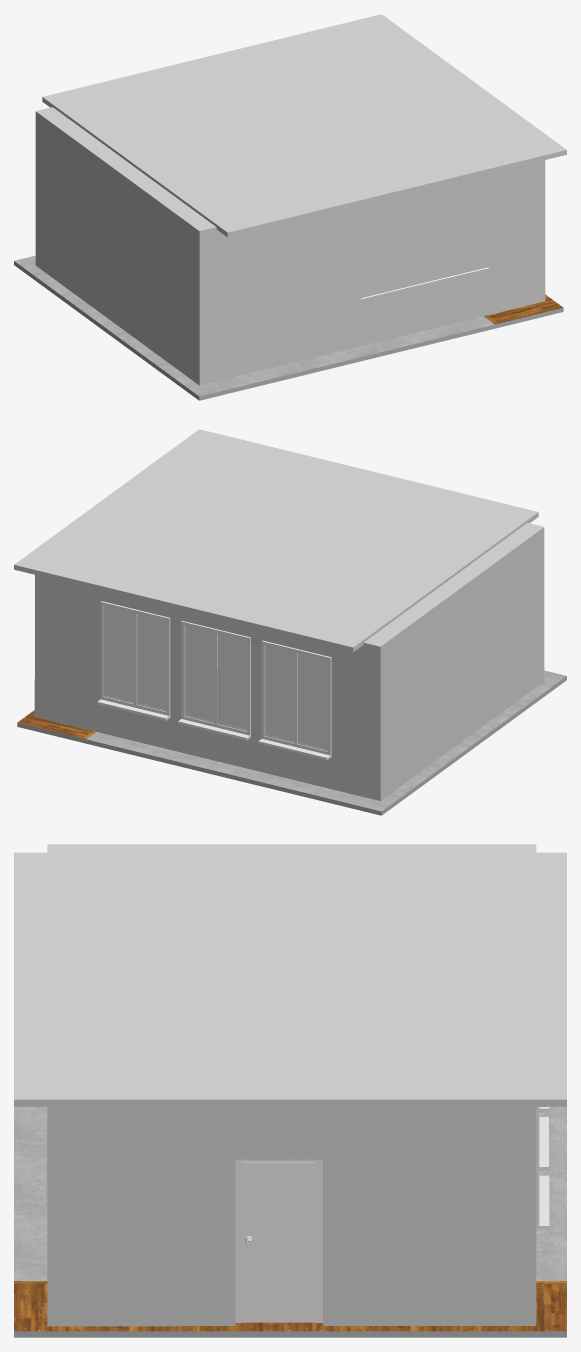
File: FloorPlan220_physics.fbx
The picture shows the model from 3 angles, top to bottom: view 1: azimuth 30°, elevation 25°; view 2: azimuth 150°, elevation 25°; view 3: azimuth 270°, elevation 25°; orthographic projection. The views are drawn at different scales.
Parts seen in each view (by area): view 1: FP220:polySurface17, FP220:polySurface14, FP220:polySurface16; view 2: FP220:polySurface14, FP220:polySurface17, FP220:polySurface16, FP220:polySurface5, FP220:polySurface11, FP220:polySurface4; view 3: FP220:polySurface14, FP220:polySurface17, FP220:polySurface16, FP220:Door.011, FP220:DoorFrame.
Boxes of the visible parts, x1,y1,x2,y2 form: FP220:polySurface17: (35,107,545,385); FP220:polySurface14: (42,14,566,237); FP220:polySurface16: (14,255,563,400); FP220:polySurface14: (14,429,538,652); FP220:polySurface17: (34,523,544,800); FP220:polySurface16: (17,670,566,815); FP220:polySurface5: (104,607,166,710); FP220:polySurface11: (185,626,246,729); FP220:polySurface4: (266,646,327,749); FP220:polySurface14: (14,852,566,1106); FP220:polySurface17: (47,844,549,1326); FP220:polySurface16: (14,1106,566,1337); FP220:Door.011: (242,1162,315,1322); FP220:DoorFrame: (235,1159,322,1322).
Bounding box in the file's own units: 722 × 303 × 631.
